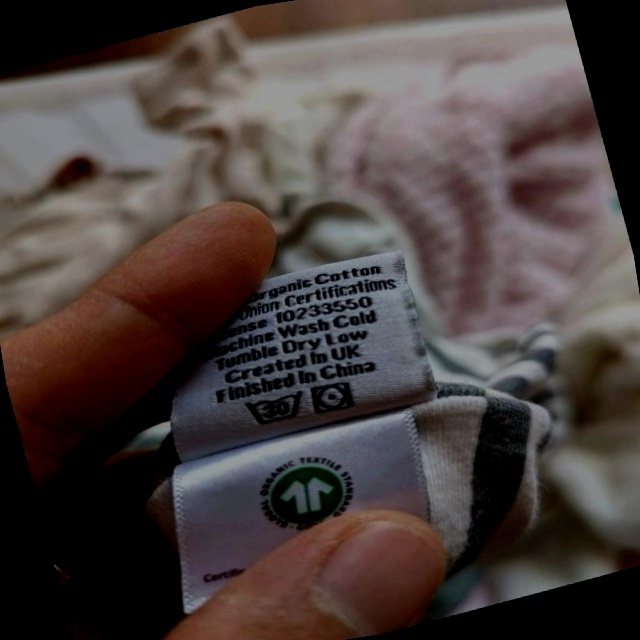30C: (238, 383, 312, 434)
tumble_dry_low: (306, 375, 359, 421)
